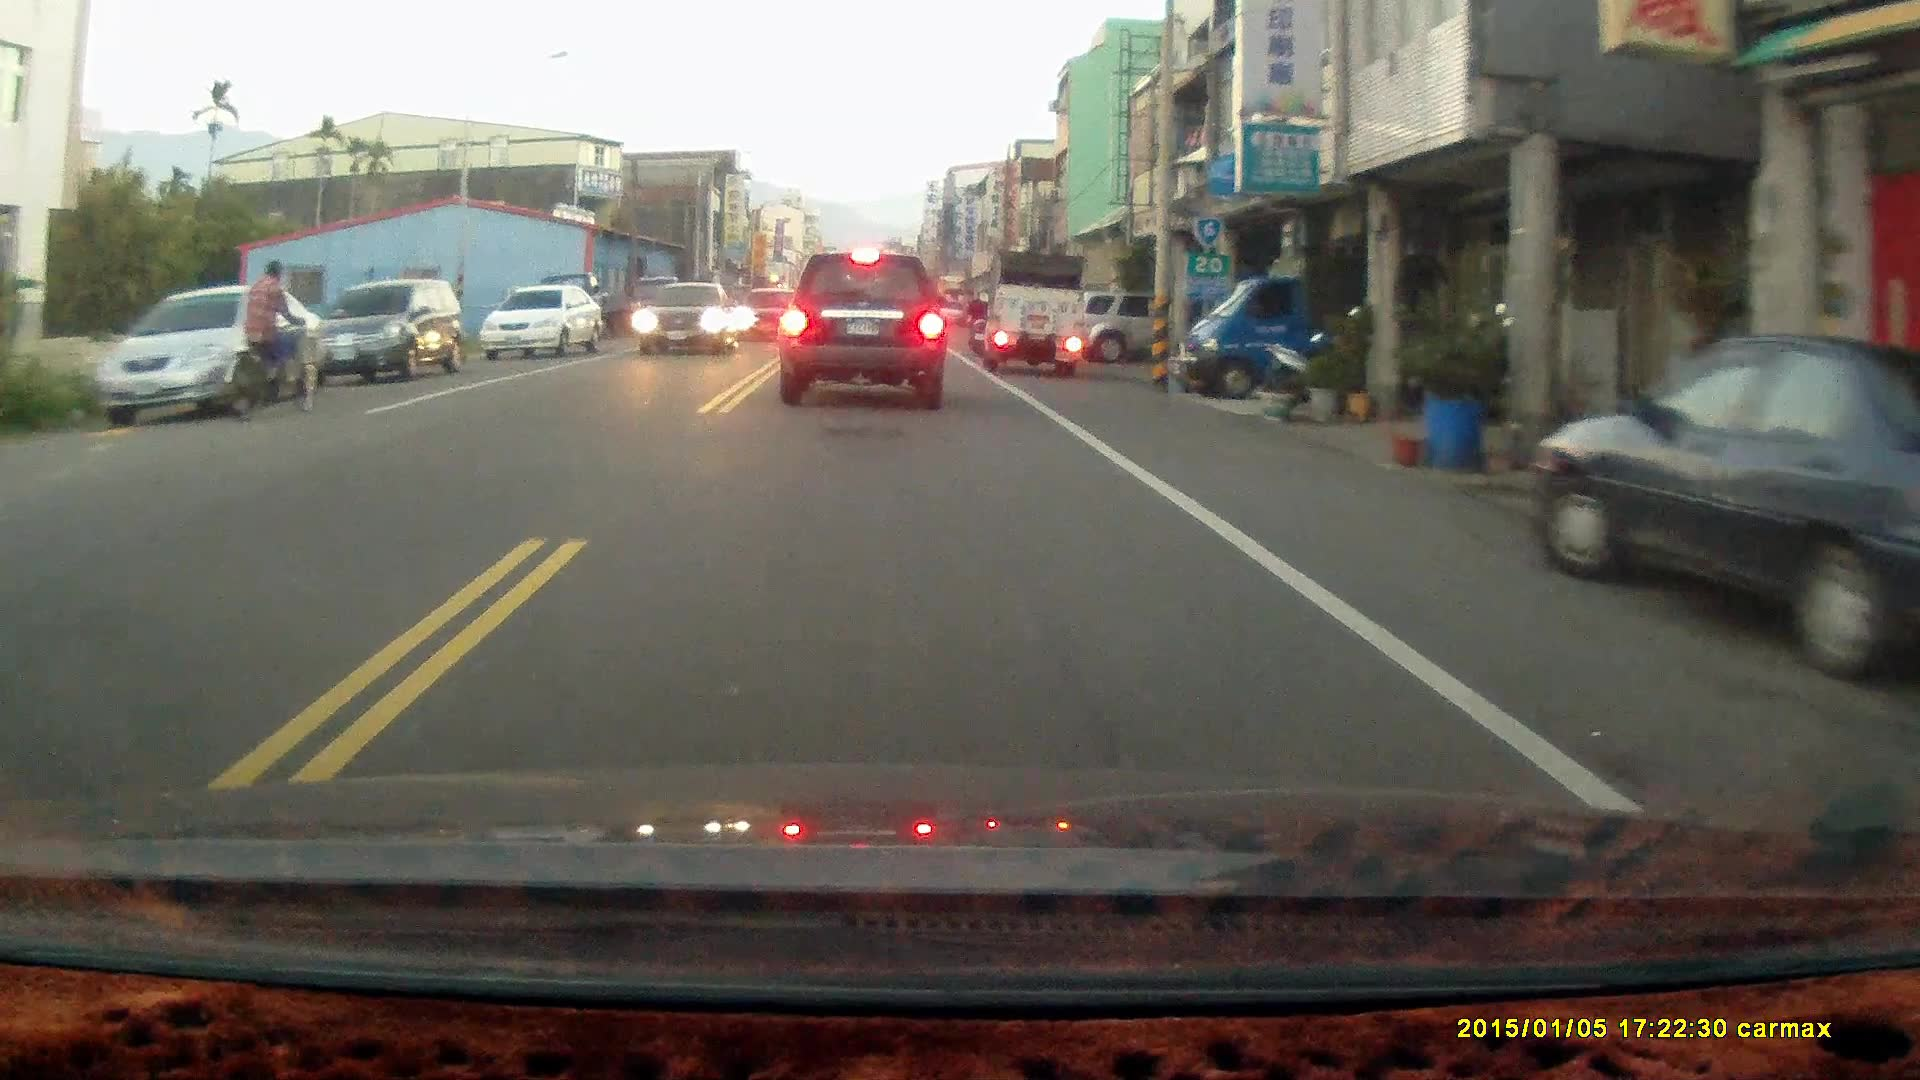rider: (219, 256, 320, 418), (963, 288, 992, 358)
vehicle: (1529, 332, 1920, 683), (86, 291, 315, 433), (1181, 240, 1370, 404), (779, 250, 949, 410), (305, 280, 473, 391), (985, 253, 1087, 379), (483, 287, 609, 365), (642, 283, 739, 358)
